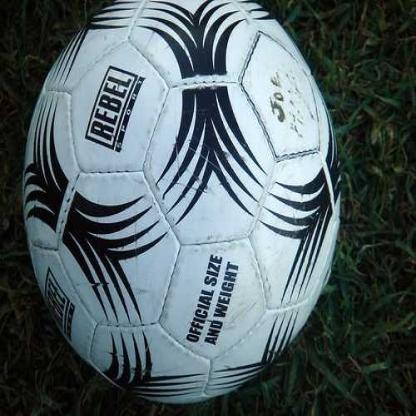ball: (22, 0, 341, 402)
